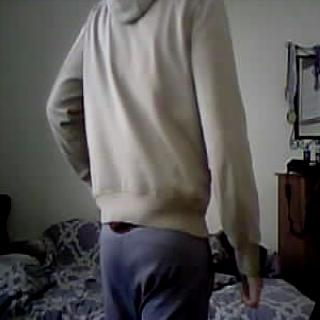Blue Sweatpants: (100, 225, 210, 320)
Yellow Hoodie: (63, 0, 247, 224)
